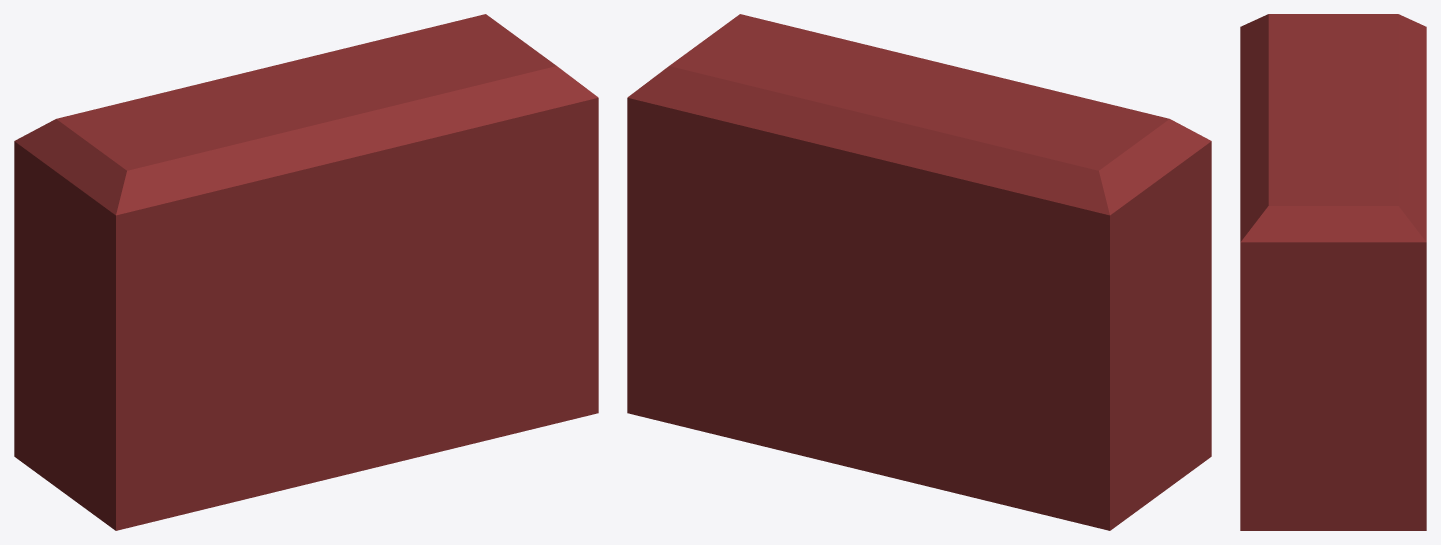
File: NatureWall.fbx
The picture shows the model from 3 angles, left to right: view 1: azimuth 30°, elevation 25°; view 2: azimuth 150°, elevation 25°; view 3: azimuth 270°, elevation 25°; orthographic projection. The views are drawn at different scales.
Visible parts, largest first — view 1: Cube.013; view 2: Cube.013; view 3: Cube.013.
Part boxes in pixels (x1,y1,x2,y2): Cube.013: (14,14,598,530); Cube.013: (627,14,1211,530); Cube.013: (1240,14,1426,530).
Size of the model in its own units: 1300 by 881 by 474.
